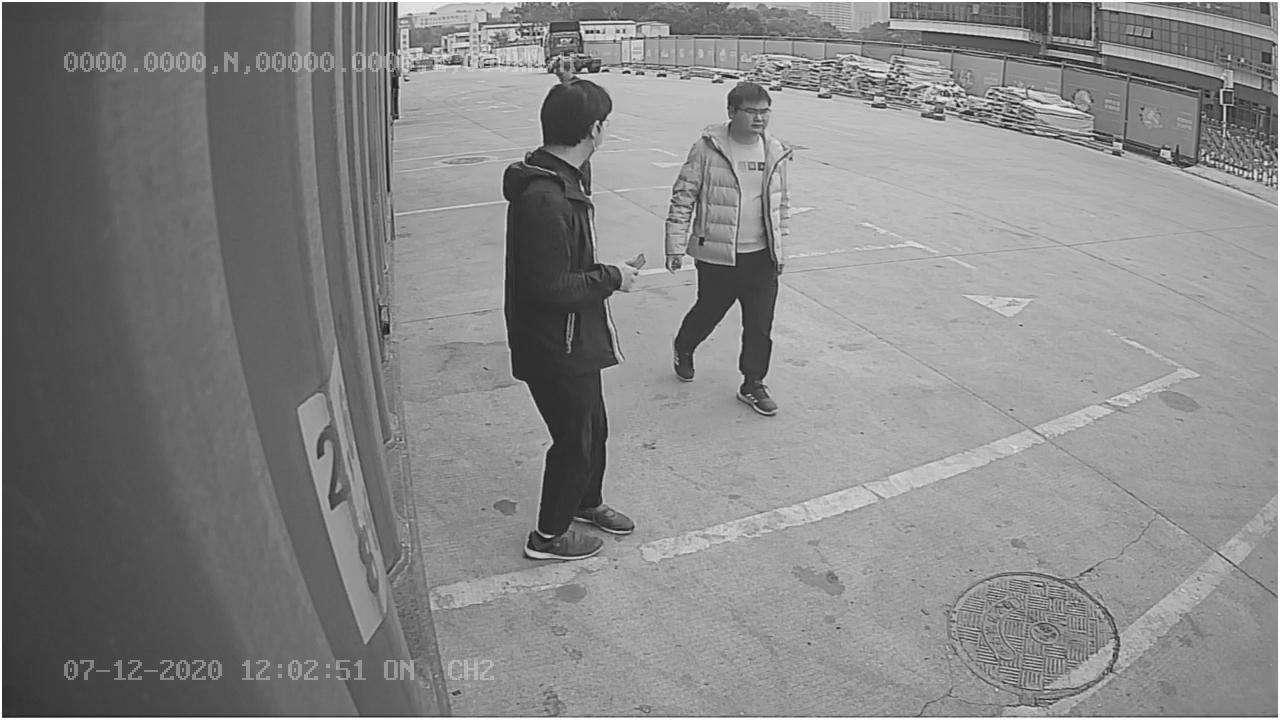person: (504, 81, 641, 561), (665, 74, 792, 422)
